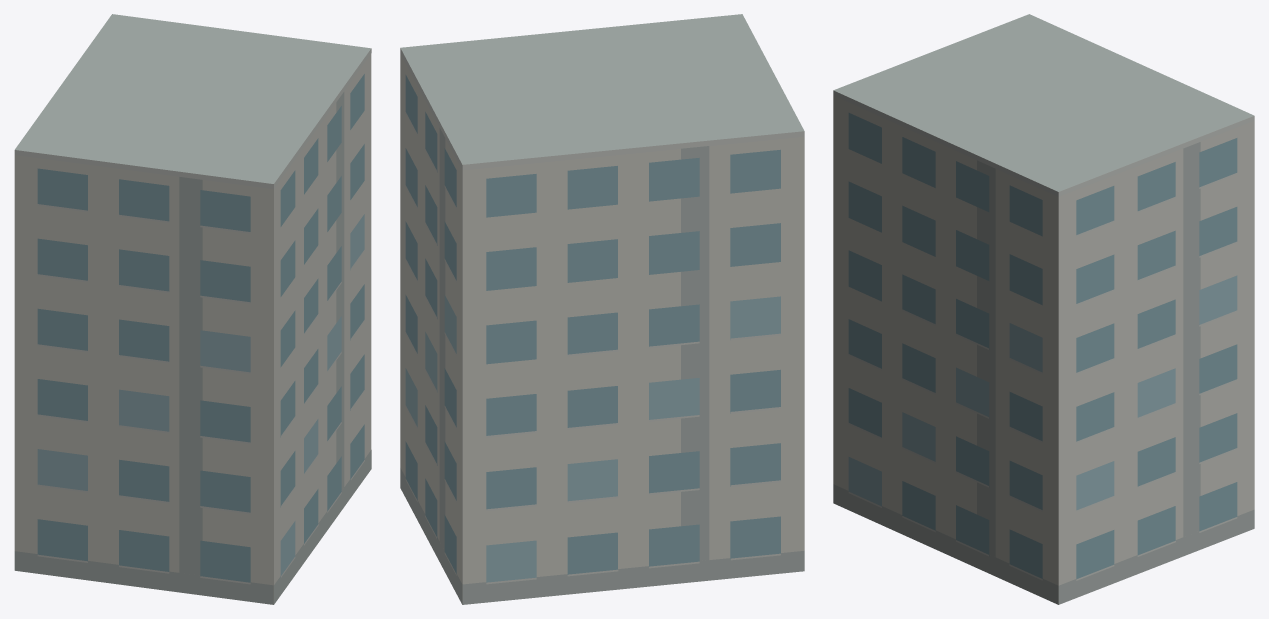
Rendered from survey-upis-32847889.glb.
3 renders of one model, left to right at view 1: azimuth 30°, elevation 25°; view 2: azimuth 150°, elevation 25°; view 3: azimuth 270°, elevation 25°, orthographic. The views are drawn at different scales.
Parts seen in each view (by area): view 1: survey-upis-32847889.tmp; view 2: survey-upis-32847889.tmp; view 3: survey-upis-32847889.tmp.
Part boxes in pixels (x1,y1,x2,y2): survey-upis-32847889.tmp: (14,14,371,604); survey-upis-32847889.tmp: (400,14,804,604); survey-upis-32847889.tmp: (833,14,1254,604).
Size of the model in its own units: 18.5 by 20 by 18.51.
